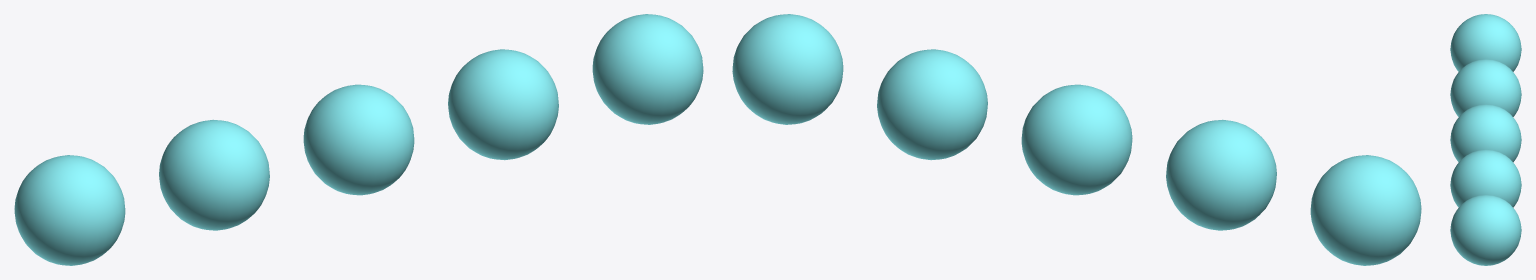
The model's file is teal.gltf.
3 renders of one model, left to right at view 1: azimuth 30°, elevation 25°; view 2: azimuth 150°, elevation 25°; view 3: azimuth 270°, elevation 25°, orthographic. The views are drawn at different scales.
Visible parts, largest first — view 1: r-1, r-0, r-0 (2), r-0 (3), r-0 (1); view 2: r-0, r-0 (2), r-1, r-0 (3), r-0 (1); view 3: r-1, r-0 (2), r-0, r-0 (1), r-0 (3).
Boxes of the visible parts, x1,y1,x2,y2 form: r-1: (592, 14, 703, 124); r-0: (14, 155, 125, 265); r-0 (2): (303, 84, 414, 195); r-0 (3): (448, 49, 558, 160); r-0 (1): (159, 119, 269, 230); r-0: (1310, 155, 1421, 265); r-0 (2): (1021, 84, 1132, 195); r-1: (732, 14, 843, 124); r-0 (3): (877, 49, 987, 160); r-0 (1): (1166, 119, 1276, 230); r-1: (1450, 195, 1521, 265); r-0 (2): (1450, 104, 1521, 162); r-0: (1450, 14, 1521, 71); r-0 (1): (1450, 59, 1521, 116); r-0 (3): (1450, 149, 1521, 207).
Size of the model in its own units: 7 by 1 by 1.
